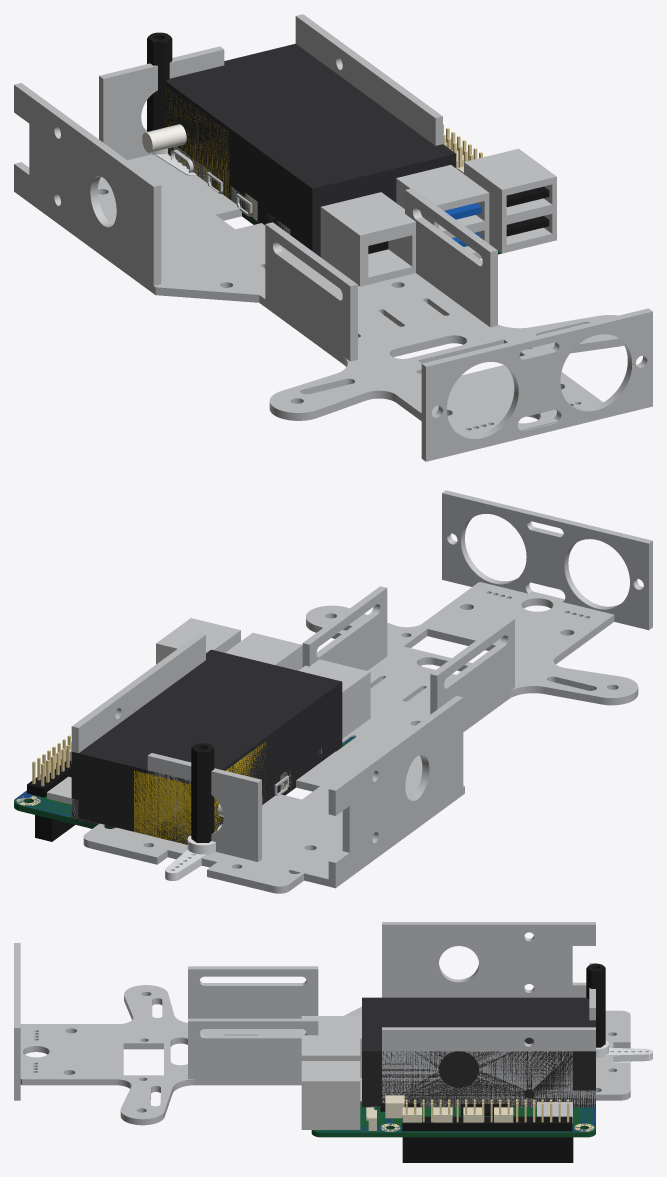
The model's file is parts.glb.
3 renders of one model, top to bottom at view 1: azimuth 30°, elevation 25°; view 2: azimuth 150°, elevation 25°; view 3: azimuth 270°, elevation 25°, orthographic. The views are drawn at different scales.
Visible parts, largest first — view 1: PX-V40-DEF-PLATE-A, PX-V40-DEF-BATTERY, PX-V40-DEF-PI5, PX-V40-DEF-MOTOR-LEFT, PX-V40-DEF-M25X30-STANDOFF, PX-V40-DEF-MOTOR-RIGHT; view 2: PX-V40-DEF-PLATE-A, PX-V40-DEF-BATTERY, PX-V40-DEF-PI5, PX-V40-DEF-PLATE-H, PX-V40-DEF-MOTOR-LEFT, PX-V40-DEF-M25X30-STANDOFF, PX-V40-DEF-ROBOT-HAT, PX-V40-DEF-HORN-PAN, PX-V40-DEF-M25X18-STANDOFF; view 3: PX-V40-DEF-PLATE-A, PX-V40-DEF-BATTERY, PX-V40-DEF-PI5, PX-V40-DEF-ROBOT-HAT, PX-V40-DEF-PLATE-H, PX-V40-DEF-M25X30-STANDOFF, PX-V40-DEF-HORN-PAN.
Boxes of the visible parts, bbox=[...] form: PX-V40-DEF-PLATE-A: bbox=[14, 14, 652, 461]; PX-V40-DEF-BATTERY: bbox=[166, 43, 456, 256]; PX-V40-DEF-PI5: bbox=[170, 124, 556, 286]; PX-V40-DEF-MOTOR-LEFT: bbox=[166, 88, 229, 198]; PX-V40-DEF-M25X30-STANDOFF: bbox=[147, 32, 172, 130]; PX-V40-DEF-MOTOR-RIGHT: bbox=[142, 124, 186, 152]; PX-V40-DEF-PLATE-A: bbox=[71, 490, 652, 888]; PX-V40-DEF-BATTERY: bbox=[71, 649, 342, 844]; PX-V40-DEF-PI5: bbox=[14, 618, 370, 830]; PX-V40-DEF-PLATE-H: bbox=[83, 823, 319, 893]; PX-V40-DEF-MOTOR-LEFT: bbox=[134, 742, 265, 844]; PX-V40-DEF-M25X30-STANDOFF: bbox=[191, 743, 214, 842]; PX-V40-DEF-ROBOT-HAT: bbox=[14, 736, 354, 841]; PX-V40-DEF-HORN-PAN: bbox=[165, 835, 215, 880]; PX-V40-DEF-M25X18-STANDOFF: bbox=[191, 792, 214, 842]; PX-V40-DEF-PLATE-A: bbox=[14, 922, 595, 1125]; PX-V40-DEF-BATTERY: bbox=[362, 997, 595, 1107]; PX-V40-DEF-PI5: bbox=[301, 1016, 595, 1137]; PX-V40-DEF-ROBOT-HAT: bbox=[321, 1095, 595, 1162]; PX-V40-DEF-PLATE-H: bbox=[596, 1010, 630, 1100]; PX-V40-DEF-M25X30-STANDOFF: bbox=[586, 963, 605, 1047]; PX-V40-DEF-HORN-PAN: bbox=[596, 1040, 652, 1061].
Size of the model in its own units: 0.1035 by 0.04 by 0.191.
